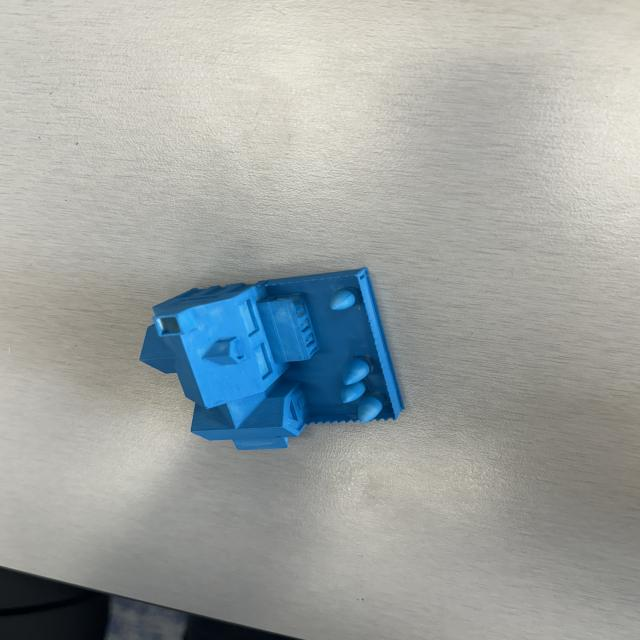house: (140, 266, 406, 452)
